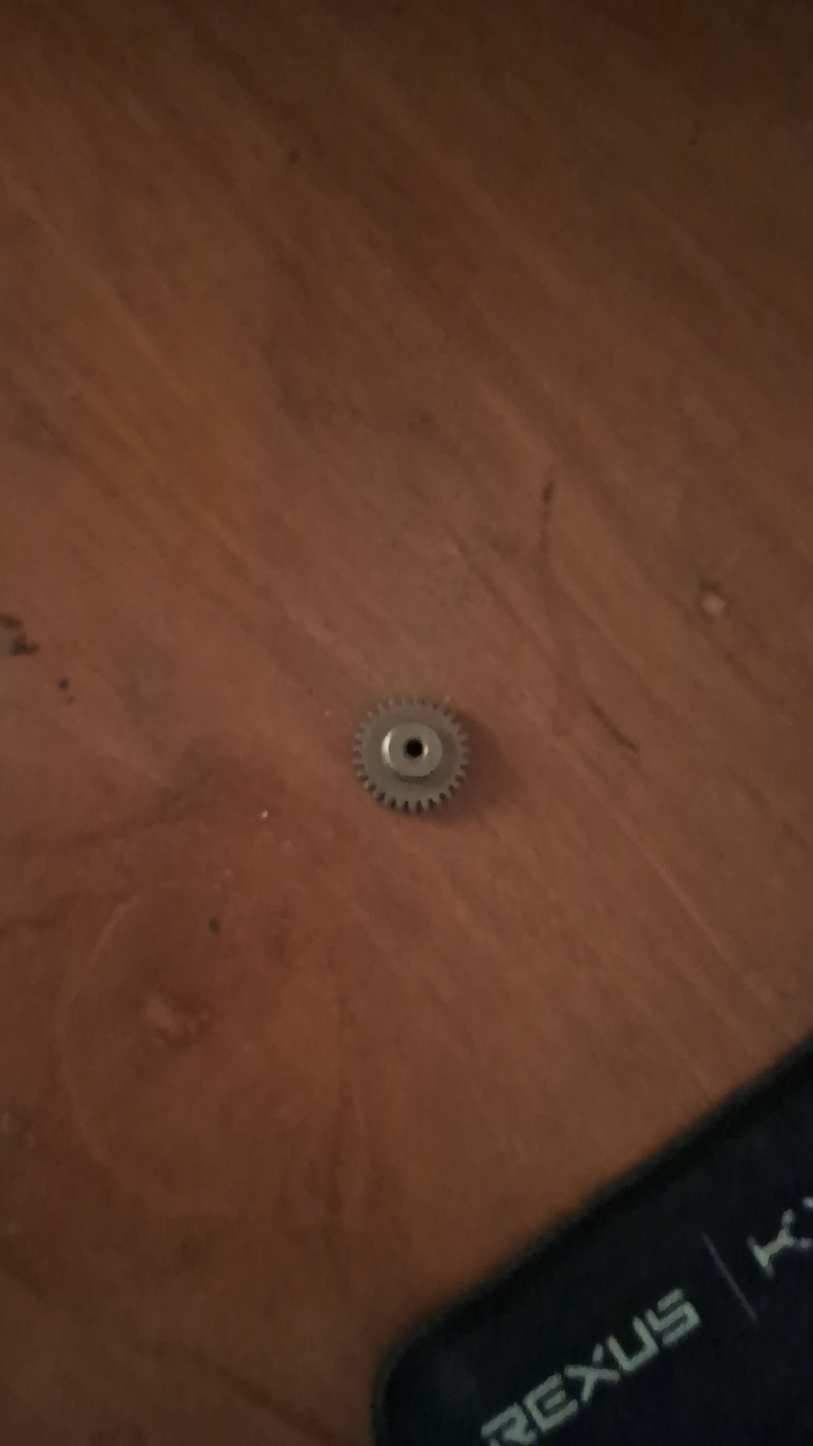spur gear: (354, 699, 468, 812)
